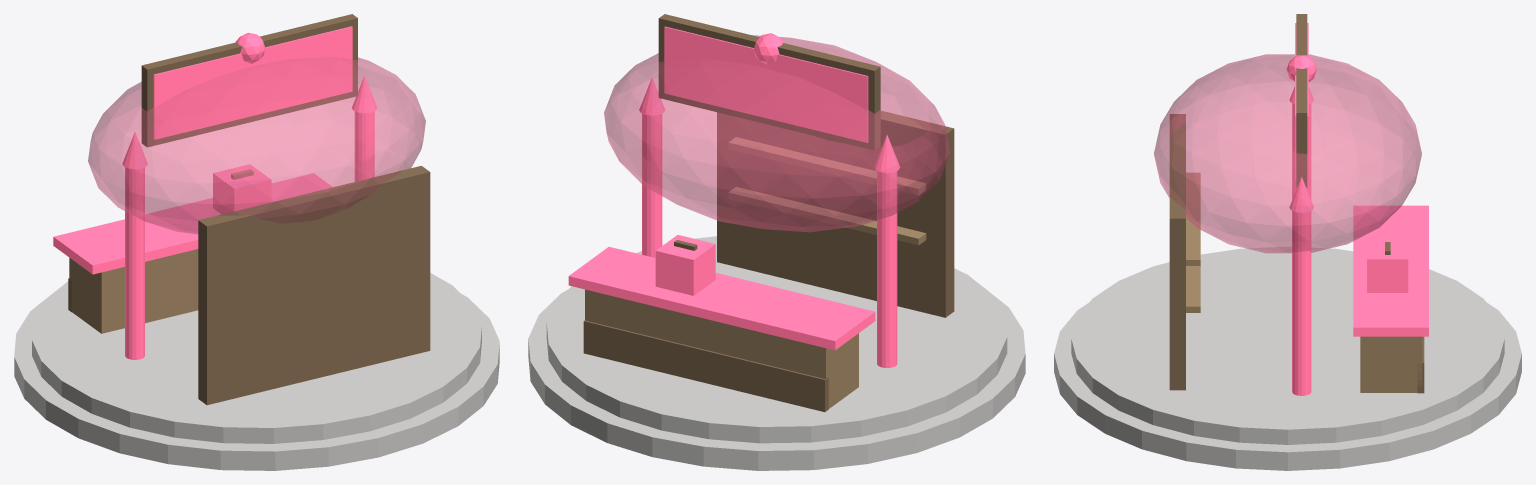
File: booth_ruby.fbx
3 renders of one model, left to right at view 1: azimuth 30°, elevation 25°; view 2: azimuth 150°, elevation 25°; view 3: azimuth 270°, elevation 25°, orthographic. The views are drawn at different scales.
Visible parts, largest first — view 1: Canopy, Back_Wall, Base_Upper, Base_Lower, Sign_Board, Counter_Body, Counter_Top, Sign_Frame, Pillar_L, DonationBox, Pillar_R, Orb (+2 smaller); view 2: Canopy, Base_Upper, Back_Wall, Base_Lower, Sign_Board, Counter_Top, Counter_Body, Counter_Skirt, Sign_Frame, Pillar_L, DonationBox, Pillar_R (+5 smaller); view 3: Base_Upper, Canopy, Base_Lower, Counter_Top, Back_Wall, Pillar_R, Counter_Body, DonationBox, Sign_Frame, Back_Shelf2, Back_Shelf, Pillar_L (+3 smaller).
Boxes of the visible parts, x1=… form: Canopy: x1=88, y1=57, x2=425, y2=234; Back_Wall: x1=198, y1=166, x2=430, y2=405; Base_Upper: x1=32, y1=273, x2=481, y2=443; Base_Lower: x1=14, y1=293, x2=499, y2=470; Sign_Board: x1=153, y1=26, x2=352, y2=139; Counter_Body: x1=69, y1=249, x2=198, y2=333; Counter_Top: x1=53, y1=173, x2=332, y2=274; Sign_Frame: x1=141, y1=14, x2=357, y2=147; Pillar_L: x1=125, y1=167, x2=144, y2=359; DonationBox: x1=213, y1=164, x2=271, y2=214; Pillar_R: x1=354, y1=111, x2=374, y2=181; Orb: x1=235, y1=32, x2=264, y2=63; Canopy: x1=604, y1=35, x2=949, y2=232; Base_Upper: x1=546, y1=236, x2=1007, y2=443; Back_Wall: x1=717, y1=110, x2=954, y2=317; Base_Lower: x1=528, y1=287, x2=1025, y2=470; Sign_Board: x1=664, y1=26, x2=868, y2=142; Counter_Top: x1=568, y1=246, x2=875, y2=350; Counter_Body: x1=585, y1=289, x2=858, y2=408; Counter_Skirt: x1=583, y1=320, x2=828, y2=412; Sign_Frame: x1=658, y1=14, x2=880, y2=150; Pillar_L: x1=877, y1=171, x2=897, y2=367; DonationBox: x1=655, y1=235, x2=715, y2=295; Pillar_R: x1=642, y1=113, x2=662, y2=257; Base_Upper: x1=1071, y1=247, x2=1504, y2=444; Canopy: x1=1154, y1=54, x2=1421, y2=253; Base_Lower: x1=1054, y1=303, x2=1521, y2=470; Counter_Top: x1=1353, y1=205, x2=1428, y2=336; Back_Wall: x1=1169, y1=114, x2=1185, y2=390; Pillar_R: x1=1292, y1=211, x2=1311, y2=395; Counter_Body: x1=1360, y1=336, x2=1422, y2=392; DonationBox: x1=1367, y1=241, x2=1408, y2=292; Sign_Frame: x1=1296, y1=14, x2=1307, y2=187; Back_Shelf2: x1=1186, y1=173, x2=1200, y2=265; Back_Shelf: x1=1186, y1=266, x2=1200, y2=312; Pillar_L: x1=1292, y1=103, x2=1311, y2=199.
Bounding box in the file's own units: 6.8 × 5.07 × 6.8.
